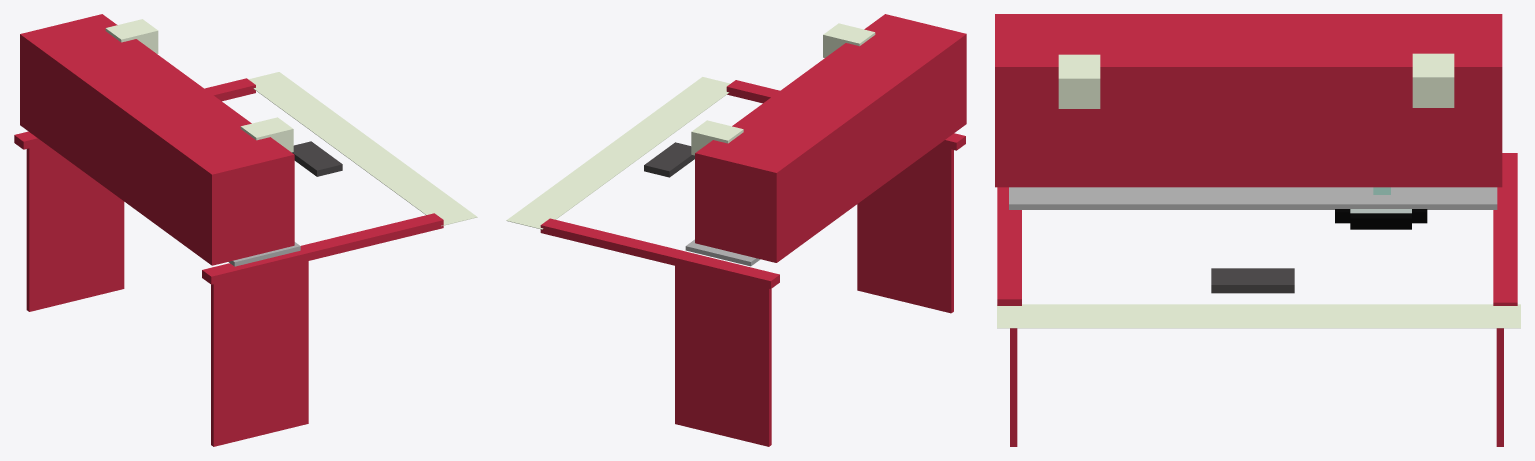
The model's file is car.fbx.
3 renders of one model, left to right at view 1: azimuth 30°, elevation 25°; view 2: azimuth 150°, elevation 25°; view 3: azimuth 270°, elevation 25°, orthographic. The views are drawn at different scales.
Visible parts, largest first — view 1: Wheel; view 2: Wheel; view 3: Wheel.
Part boxes in pixels (bbox=[...]): Wheel: bbox=[14, 14, 477, 446]; Wheel: bbox=[506, 14, 966, 446]; Wheel: bbox=[995, 14, 1520, 446].
Bounding box in the file's own units: 1322 × 1333 × 1712.
